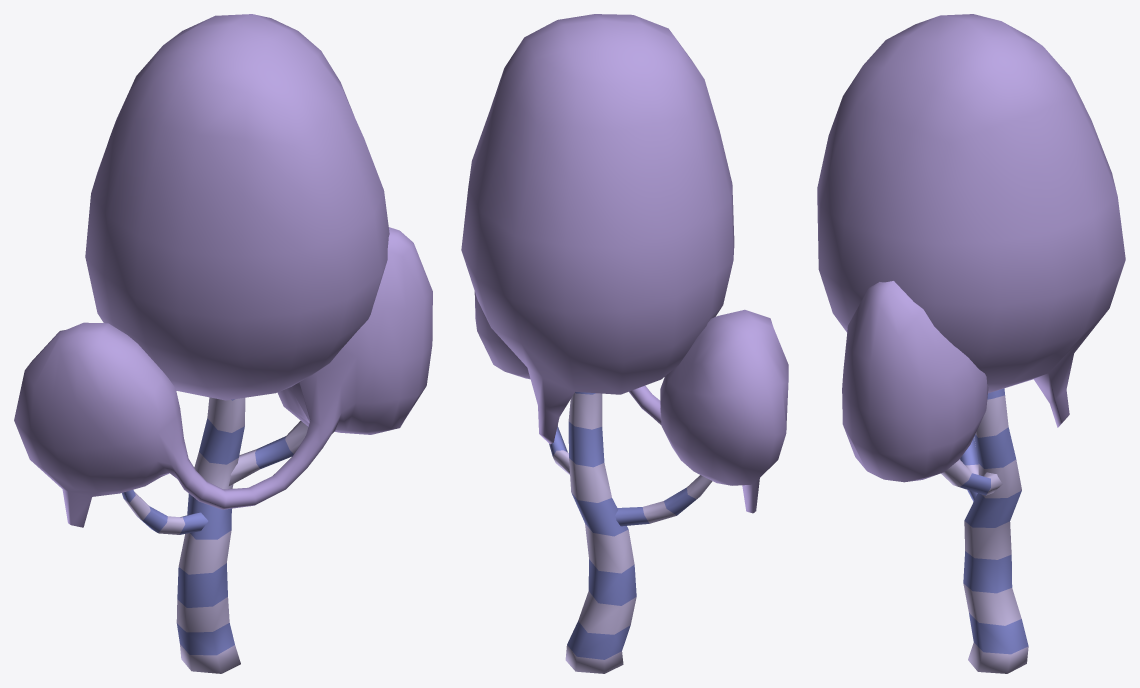
File: candy_assets24.fbx
3 views of the same model, side by side, from view 1: azimuth 30°, elevation 25°; view 2: azimuth 150°, elevation 25°; view 3: azimuth 270°, elevation 25° (orthographic). The views are drawn at different scales.
Parts seen in each view (by area): view 1: candy_assets24; view 2: candy_assets24; view 3: candy_assets24.
Part boxes in pixels (x1,y1,x2,y2): candy_assets24: (14,14,432,673); candy_assets24: (461,14,788,673); candy_assets24: (817,14,1125,673).
Bounding box in the file's own units: 848 × 1477 × 641.
1 material, 1 textured.
